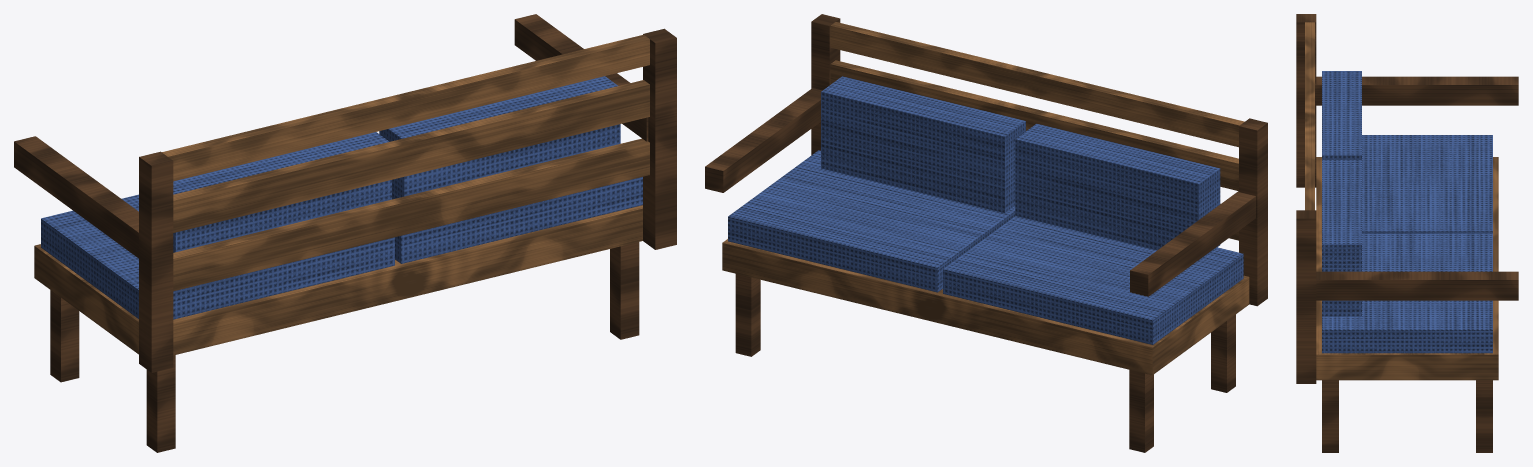
The model's file is wood_sofa.fbx.
3 views of the same model, side by side, from view 1: azimuth 30°, elevation 25°; view 2: azimuth 150°, elevation 25°; view 3: azimuth 270°, elevation 25° (orthographic). The views are drawn at different scales.
Visible parts, largest first — view 1: wood_sofa; view 2: wood_sofa; view 3: wood_sofa.
Boxes of the visible parts, x1,y1,x2,y2 form: wood_sofa: (14, 14, 676, 452); wood_sofa: (705, 14, 1267, 452); wood_sofa: (1296, 14, 1518, 452).
Bounding box in the file's own units: 170 × 94 × 78.
